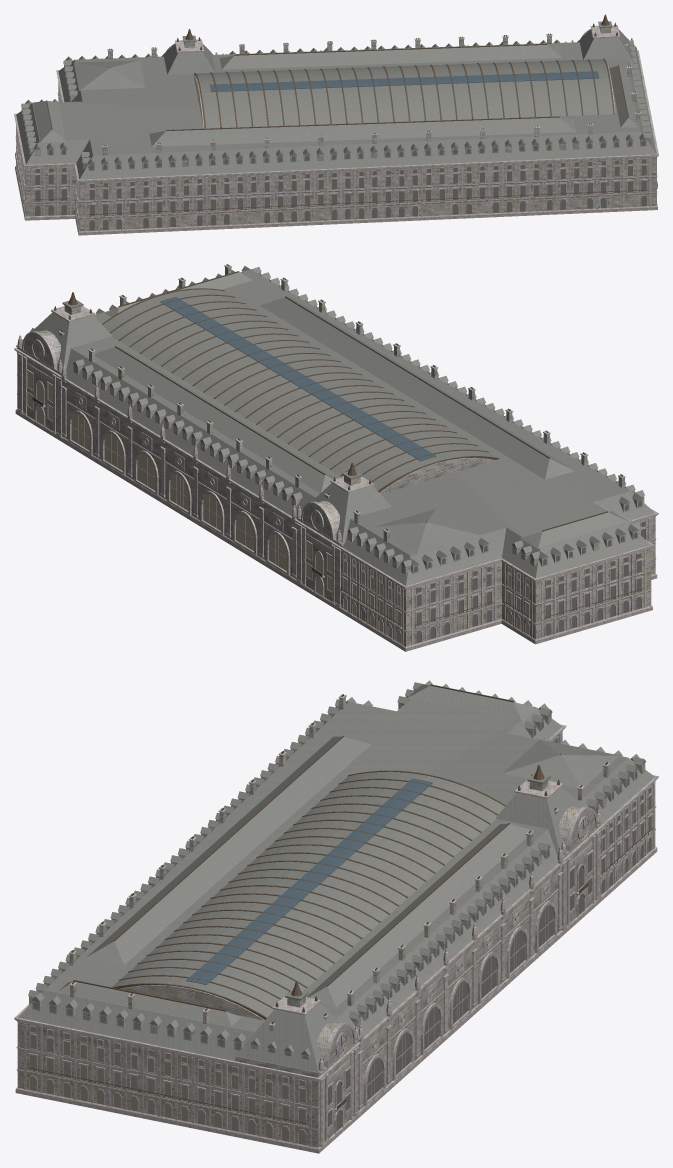
File: musee-dorsay.glb
The picture shows the model from 3 angles, top to bottom: view 1: azimuth 30°, elevation 25°; view 2: azimuth 150°, elevation 25°; view 3: azimuth 270°, elevation 25°; orthographic projection. The views are drawn at different scales.
Parts seen in each view (by area): view 1: roof, trim, stone, window, metal, glass; view 2: roof, trim, stone, window, metal, glass; view 3: roof, trim, stone, window, metal, glass.
Boxes of the visible parts, left/top/right/bottom form: roof: left=16, top=21, right=656, bottom=179; trim: left=14, top=25, right=658, bottom=235; stone: left=22, top=28, right=656, bottom=231; window: left=19, top=65, right=646, bottom=230; metal: left=15, top=14, right=657, bottom=216; glass: left=209, top=71, right=599, bottom=91; roof: left=22, top=266, right=654, bottom=585; trim: left=14, top=264, right=658, bottom=651; stone: left=17, top=267, right=655, bottom=646; window: left=27, top=371, right=645, bottom=643; metal: left=32, top=264, right=644, bottom=627; glass: left=160, top=297, right=436, bottom=460; roof: left=18, top=680, right=654, bottom=1072; trim: left=14, top=694, right=658, bottom=1153; stone: left=17, top=689, right=655, bottom=1147; window: left=30, top=722, right=651, bottom=1144; metal: left=26, top=684, right=654, bottom=1126; glass: left=186, top=778, right=432, bottom=984.
Size of the model in its own units: 197 by 35 by 140.
6 materials, 6 textured.
